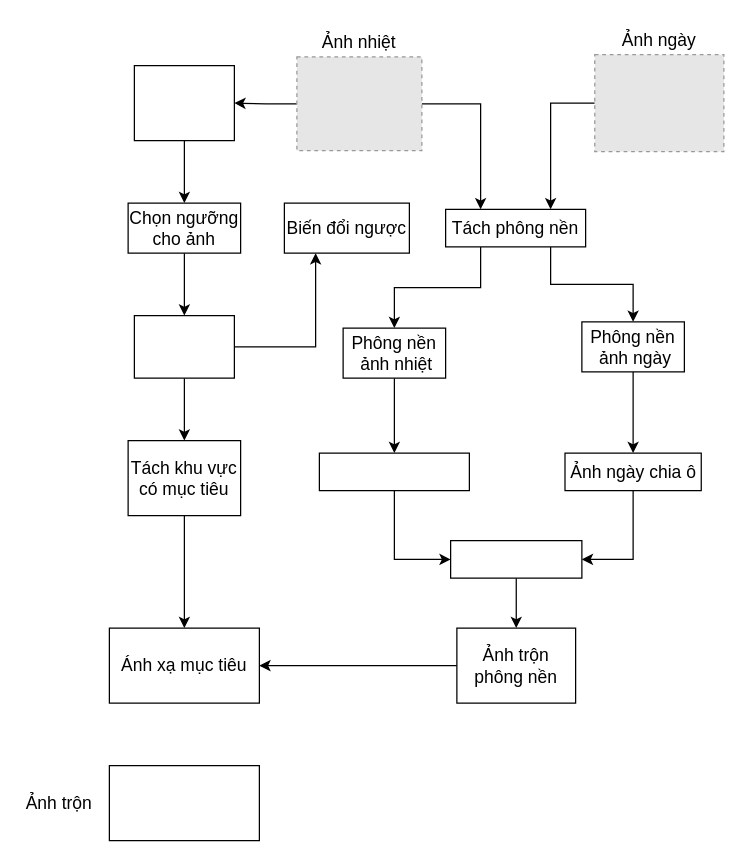
The diagram is 746 pixels wide and 863 high, and some of its shapes have lost their labels. Grey dashed boxes stand in for pictures. The shapes that lost their labels are listed below. From the top down, each one's centre as x and y in pixels, then its label:
At pixel 183 102: "Ảnh được chia vùng".
At pixel 183 346: "Ảnh nhị phân".
At pixel 393 471: "Ảnh nhiệt chia ô".
At pixel 515 558: "Quy ước trộn".
